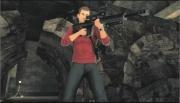gun: (68, 8, 150, 32)
